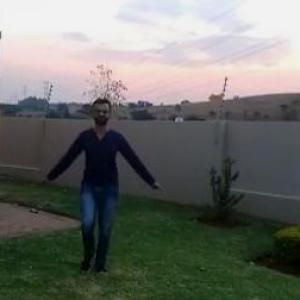land: (51, 107, 151, 249)
